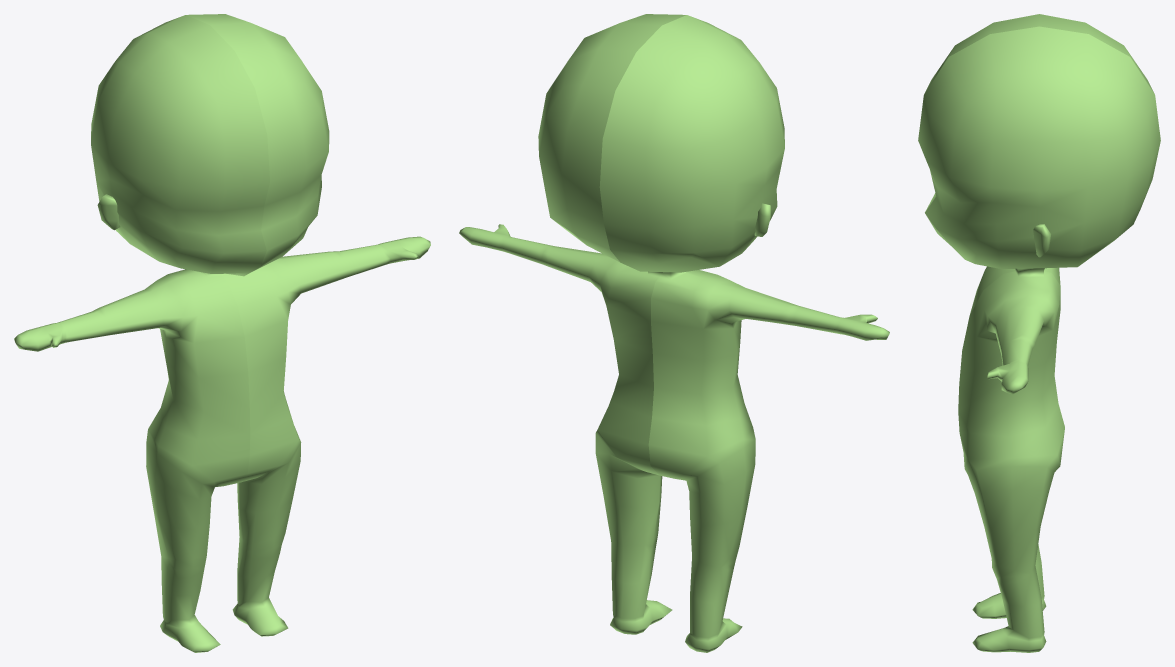
File: 0. rigsiz t pose.fbx
3 views of the same model, side by side, from view 1: azimuth 30°, elevation 25°; view 2: azimuth 150°, elevation 25°; view 3: azimuth 270°, elevation 25° (orthographic). The views are drawn at different scales.
Visible parts, largest first — view 1: pCube9; view 2: pCube9; view 3: pCube9.
Boxes of the visible parts, box(x1,y1,x2,y2) form: pCube9: box(14, 14, 430, 652); pCube9: box(459, 14, 889, 652); pCube9: box(918, 14, 1160, 652).
Bounding box in the file's own units: 182 × 250 × 91.18.
